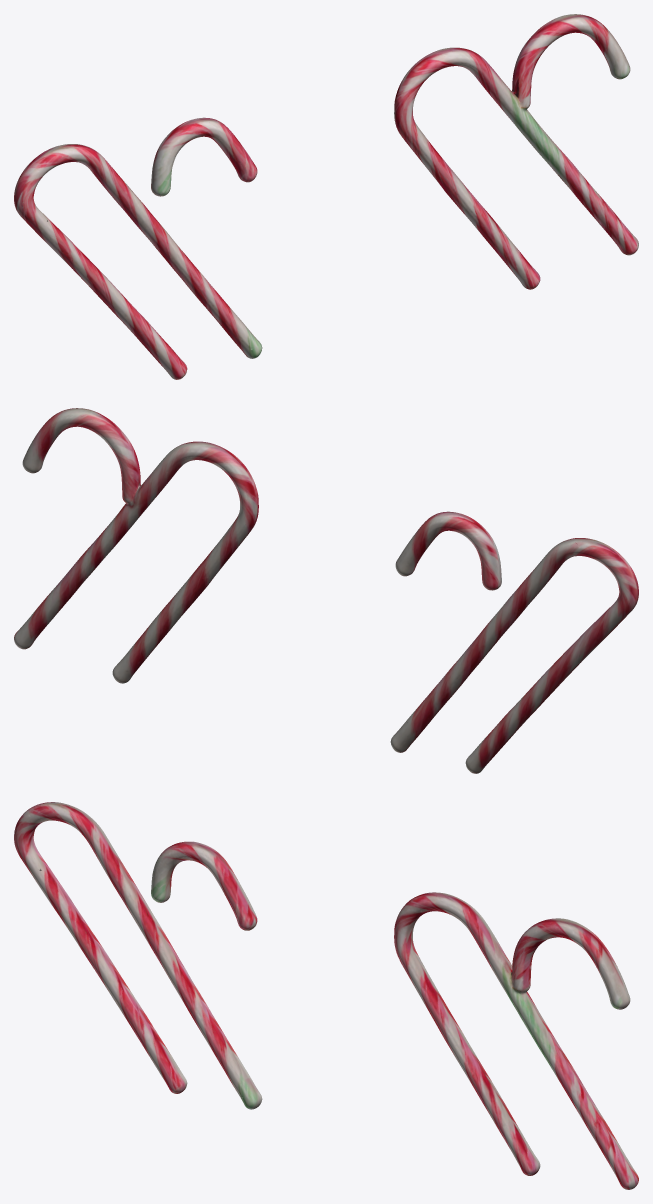
The model's file is Candy_canes.glb.
3 renders of one model, top to bottom at view 1: azimuth 30°, elevation 25°; view 2: azimuth 150°, elevation 25°; view 3: azimuth 330°, elevation 25°, orthographic.
Bounding box in the file's own units: 2 × 0.823 × 0.0548.
1 material, 1 textured.
